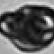correct: (6, 0, 54, 52)
